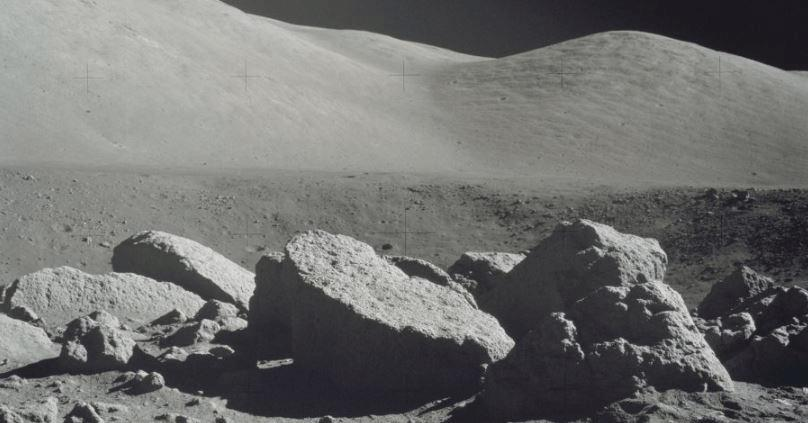rock: (249, 230, 513, 394), (484, 281, 732, 419), (480, 219, 668, 337), (694, 267, 808, 386), (5, 267, 205, 328), (114, 230, 256, 310), (60, 309, 136, 370)
